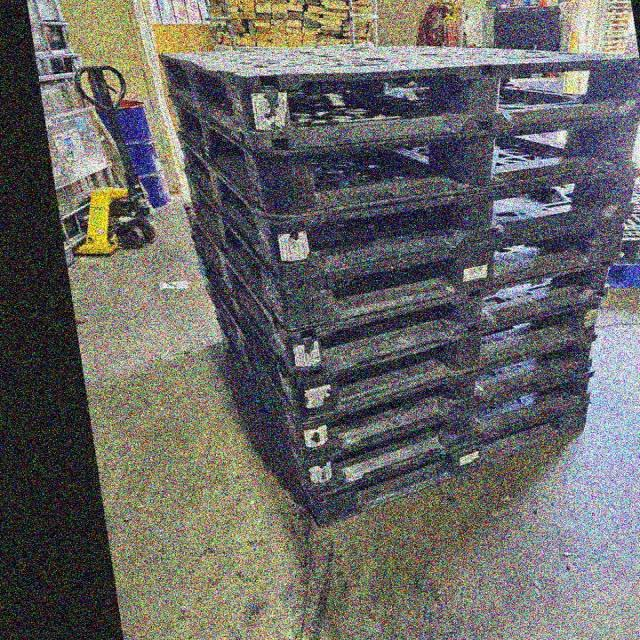igps: (153, 38, 640, 154), (246, 159, 640, 283), (232, 110, 640, 223), (271, 213, 639, 338), (296, 366, 606, 504), (300, 389, 598, 532), (280, 257, 615, 384), (289, 296, 604, 430), (294, 332, 604, 464)
